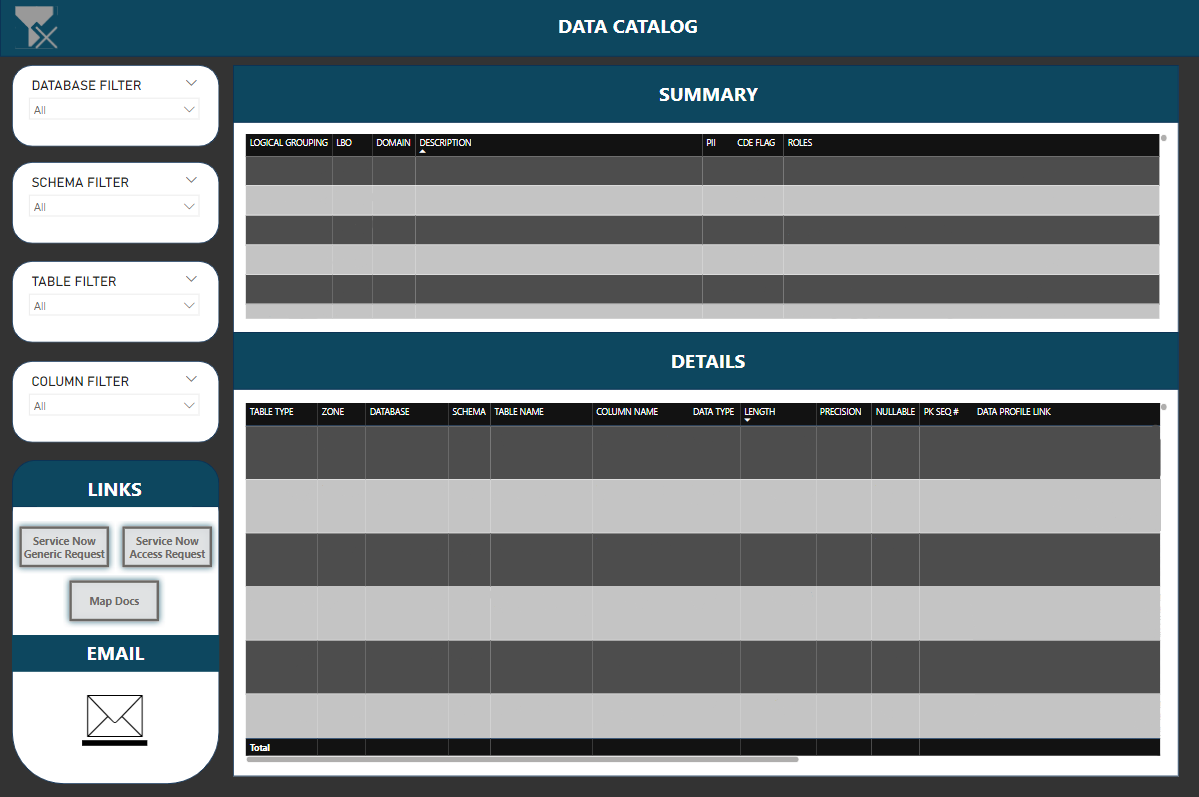

The page's visual inventory and layout, read from the dashboard file:
{"tool":"powerbi","page":{"name":"Dashboard - Emily Snowflake Connection","canvas":[1500,1000],"ordinal":0},"visuals":[{"type":"shape","box":[15,658.3,258.3,313.3],"z":0},{"type":"shape","box":[291.7,83.3,1181.7,888.3],"z":1000},{"type":"shape","box":[0,0,1500,71.7],"z":2000},{"type":"textbox","box":[635,11.7,300,46.7],"z":3000},{"type":"actionButton","box":[88.3,781.7,110,66.7],"z":7000},{"type":"actionButton","box":[88.3,870,110,66.7],"z":8000},{"type":"textbox","box":[71.7,678.3,145,91.7],"z":9000},{"type":"tableEx","fields":{"Values":["Query2.DATABASE","Query2.HISTORICAL_RETENTION","Query2.LAST_LOAD_TIME","Query2.COMMENT","Query2.DATA_TYPE","Query2.ROLES"]},"box":[330,185,1106.7,211.7],"z":10000},{"type":"tableEx","fields":{"Values":["Query2.TABLE_TYPE","Query2.ZONE","Query2.DATABASE","Query2.SCHEMA","Query2.TABLE_NAME","Query2.COLUMN_NAME","Query2.DATA_TYPE","Query2.LENGTH","Query2.NULLABLE","Query2.PRIMARY_KEY","Query2.DATA_PROFILING"]},"box":[301.2,500,1163.4,292.7],"z":11000},{"type":"shape","box":[473.2,82.9,807.3,72],"z":12000},{"type":"textbox","box":[732.9,96.3,300,46.3],"z":13000},{"type":"shape","box":[14.6,112.2,258.5,154.9],"z":13500},{"type":"shape","box":[291.7,416.7,1181.7,71.7],"z":14000},{"type":"textbox","box":[735,430,300,45],"z":15000},{"type":"image","box":[14.9,11.4,49.2,46.5],"z":16000},{"type":"shape","box":[14.6,475.6,258.5,156.1],"z":18000},{"type":"shape","box":[14.6,292.7,258.5,154.9],"z":19000},{"type":"slicer","fields":{"Values":["Query2.TABLE_NAME"]},"box":[26.8,329.3,232.9,81.7],"z":19500},{"type":"slicer","fields":{"Values":["Query2.DATABASE"]},"box":[26.8,148.8,232.9,81.7],"z":20000},{"type":"slicer","fields":{"Values":["Query2.COLUMN_NAME"]},"box":[26.8,512.2,232.9,81.7],"z":20500}]}

Visuals, with their boxes in screenshot pixels (x1, y1, x2, y2), scaled from the page's 1500x1000 canvas onto the 1199x797 screenshot:
shape: 12 525 218 774
shape: 233 66 1178 774
shape: 0 0 1198 57
textbox: 508 9 747 47
actionButton: 71 623 159 676
actionButton: 71 693 159 747
textbox: 57 541 173 614
tableEx - Query2.DATABASE x Query2.HISTORICAL_RETENTION: 264 147 1148 316
tableEx - Query2.TABLE_TYPE x Query2.ZONE: 241 398 1171 632
shape: 378 66 1024 123
textbox: 586 77 826 114
shape: 12 89 218 213
shape: 233 332 1178 389
textbox: 588 343 827 379
image: 12 9 51 46
shape: 12 379 218 503
shape: 12 233 218 357
slicer - Query2.TABLE_NAME: 21 262 208 328
slicer - Query2.DATABASE: 21 119 208 184
slicer - Query2.COLUMN_NAME: 21 408 208 473
